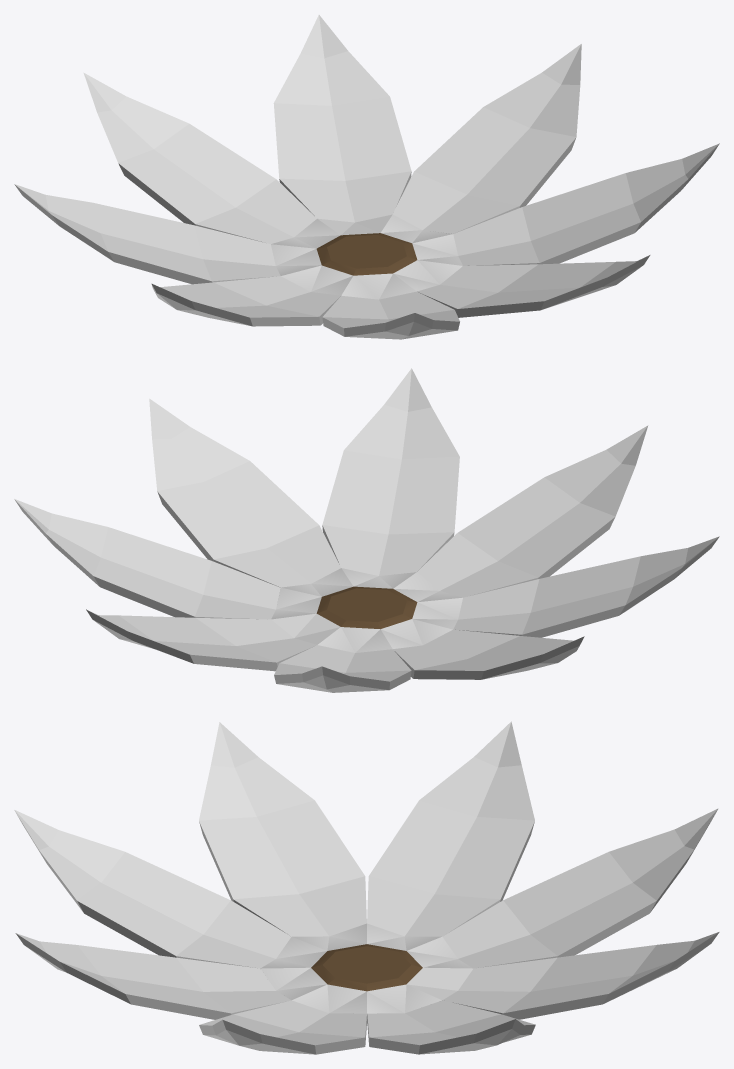
The model's file is Flower01.gltf.
3 renders of one model, top to bottom at view 1: azimuth 30°, elevation 25°; view 2: azimuth 150°, elevation 25°; view 3: azimuth 270°, elevation 25°, orthographic. The views are drawn at different scales.
Parts seen in each view (by area): view 1: Flower01; view 2: Flower01; view 3: Flower01.
Part boxes in pixels (x1,y1,x2,y2): Flower01: (14, 15, 719, 339); Flower01: (14, 368, 719, 692); Flower01: (14, 721, 719, 1054).
Size of the model in its own units: 3.5 by 0.6312 by 3.5.
